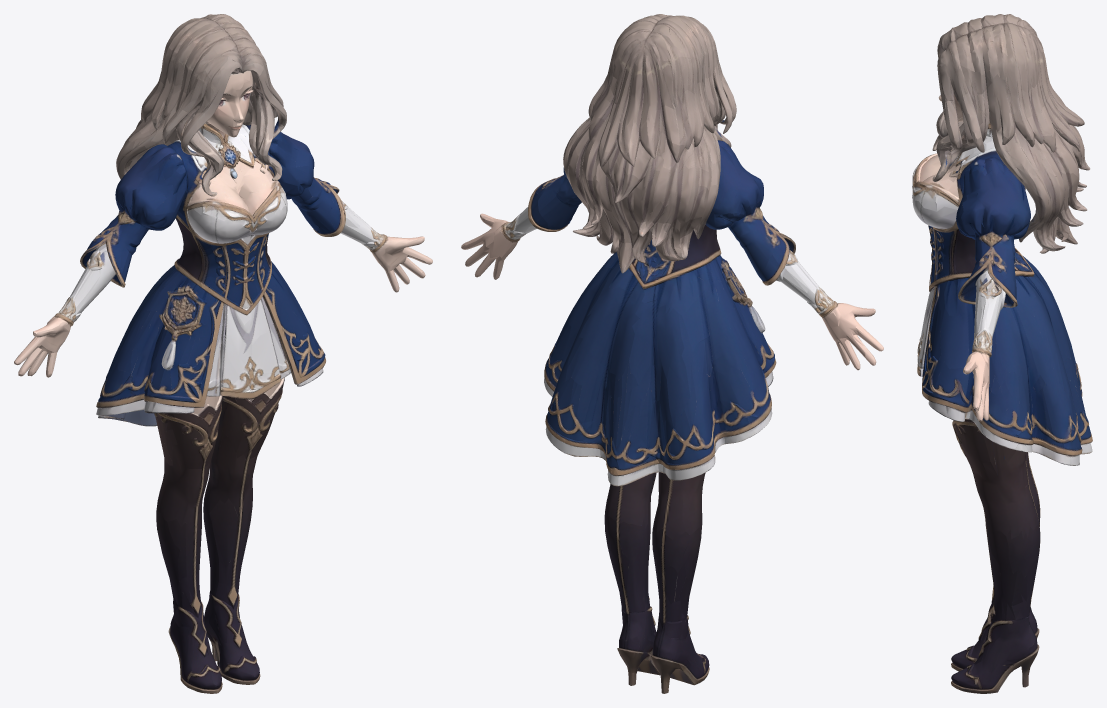
File: Catherine.glb
3 views of the same model, side by side, from view 1: azimuth 30°, elevation 25°; view 2: azimuth 150°, elevation 25°; view 3: azimuth 270°, elevation 25° (orthographic).
Parts seen in each view (by area): view 1: Mesh_0; view 2: Mesh_0; view 3: Mesh_0.
Boxes of the visible parts, x1,y1,x2,y2 form: Mesh_0: (14, 14, 432, 693); Mesh_0: (461, 14, 883, 693); Mesh_0: (912, 14, 1092, 693).
Bounding box in the file's own units: 1.27 × 1.9 × 0.4737.
1 material, 1 textured.
